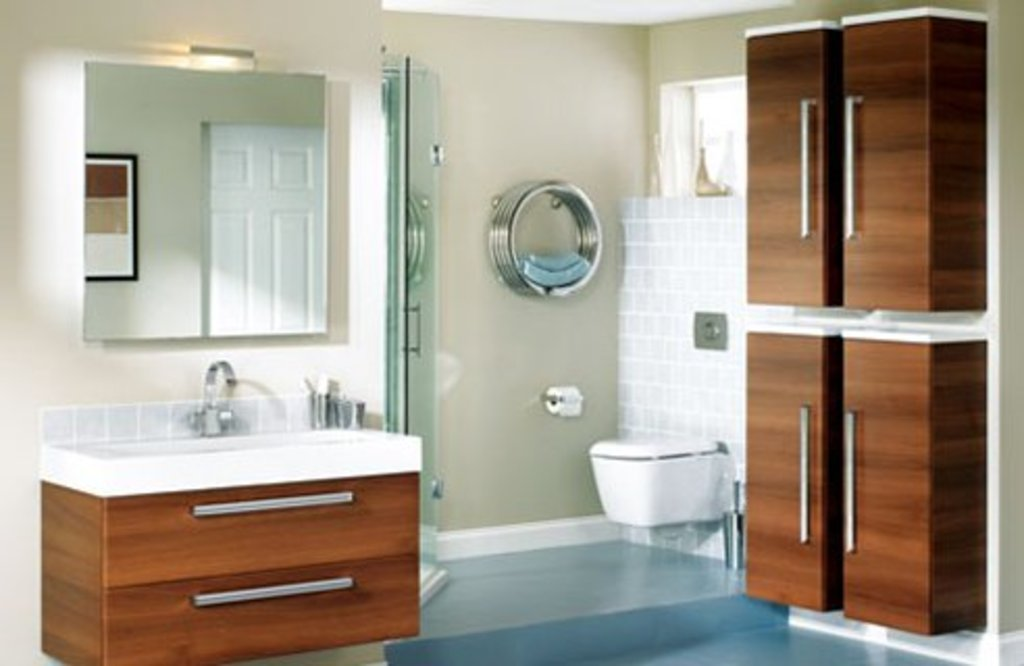cabinet door: (838, 31, 941, 311), (838, 339, 937, 620), (114, 478, 418, 560), (118, 559, 418, 634), (749, 36, 833, 298), (750, 334, 828, 602)
door: (206, 127, 324, 330)
handle: (188, 566, 355, 605), (187, 487, 356, 521), (792, 405, 819, 541), (794, 96, 817, 240), (838, 410, 860, 553), (840, 97, 861, 243), (411, 300, 425, 353)
